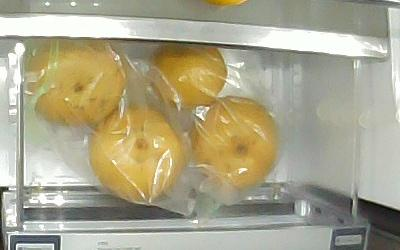pear_vinyl: (88, 106, 180, 203), (28, 39, 125, 124), (185, 98, 279, 184), (149, 42, 227, 109)
